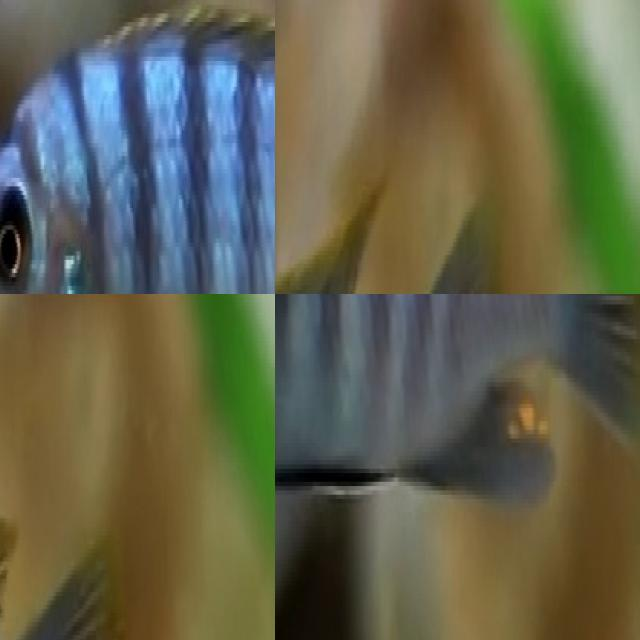fish: (275, 294, 640, 551), (0, 0, 275, 294)
